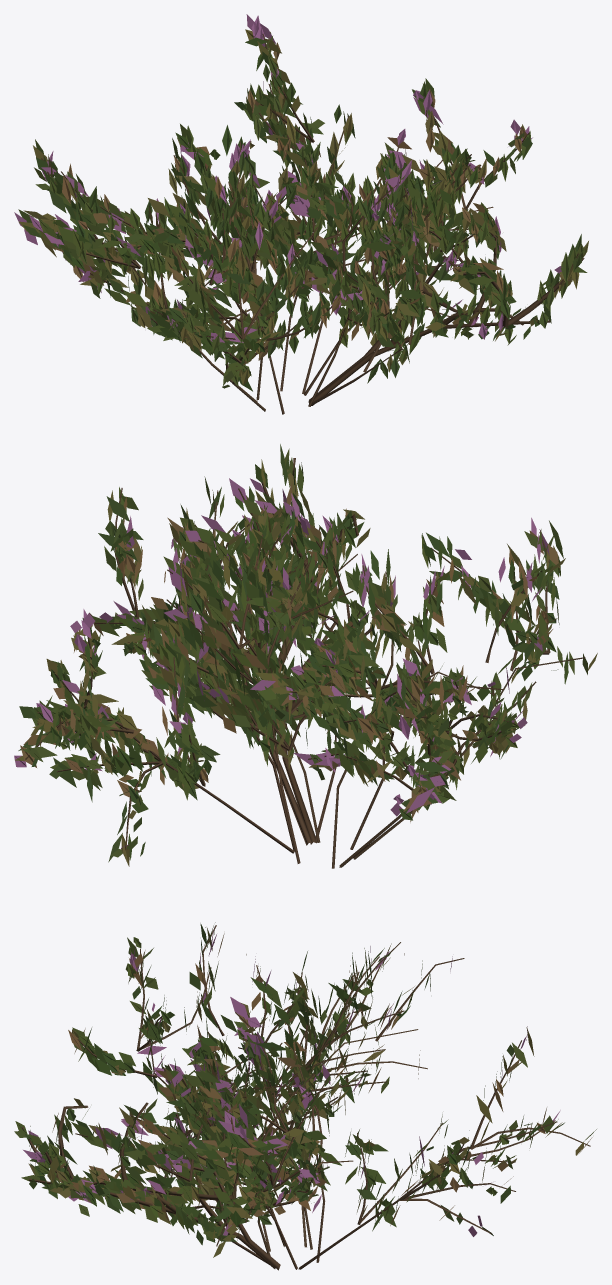
File: heather_b.glb
The picture shows the model from 3 angles, top to bottom: view 1: azimuth 30°, elevation 25°; view 2: azimuth 150°, elevation 25°; view 3: azimuth 270°, elevation 25°; orthographic projection. The views are drawn at different scales.
Visible parts, largest first — view 1: heather_b; view 2: heather_b; view 3: heather_b.
Part boxes in pixels (x1,y1,x2,y2): heather_b: (14,14,588,414); heather_b: (14,444,597,868); heather_b: (14,922,596,1270).
Bounding box in the file's own units: 0.5649 × 0.3501 × 0.646.
